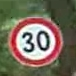limite 30: (6, 13, 64, 67)
